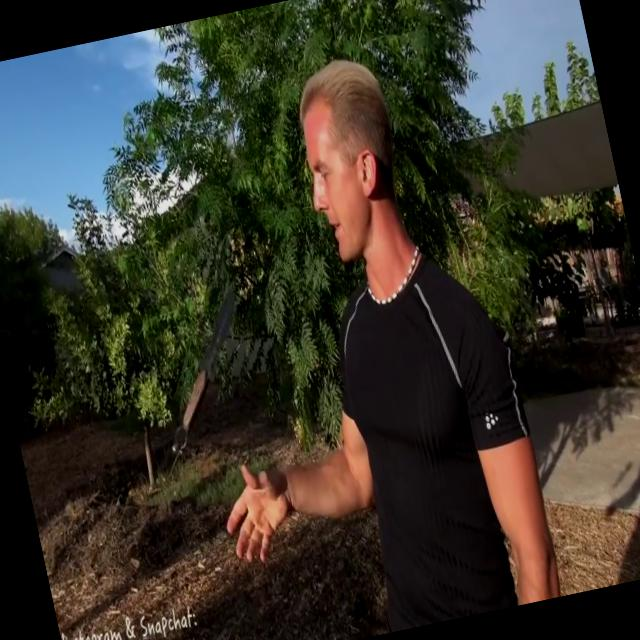knife: (132, 274, 273, 476)
